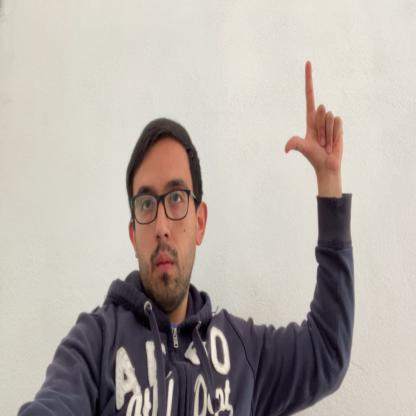L: (286, 60, 344, 175)
